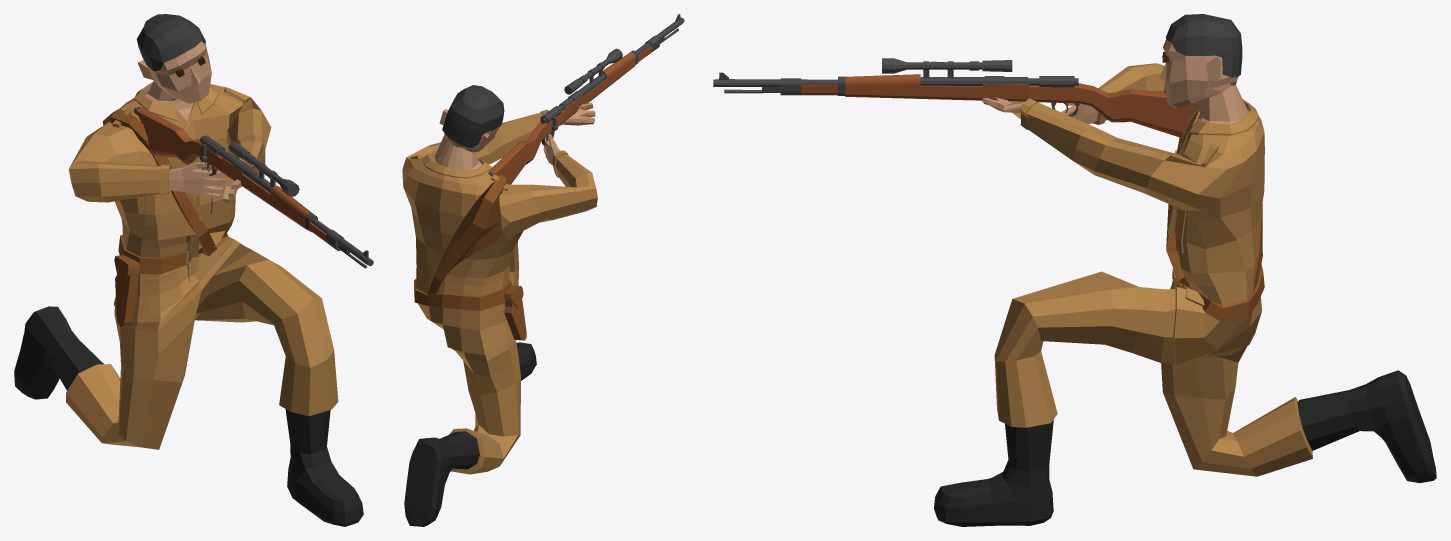
Rendered from PejuangSRf.fbx.
3 renders of one model, left to right at view 1: azimuth 30°, elevation 25°; view 2: azimuth 150°, elevation 25°; view 3: azimuth 270°, elevation 25°, orthographic. The views are drawn at different scales.
Parts seen in each view (by area): view 1: Sniper; view 2: Sniper; view 3: Sniper.
Boxes of the visible parts, x1,y1,x2,y2 form: Sniper: (14,14,373,526); Sniper: (402,14,684,526); Sniper: (713,14,1436,526).
Size of the model in its own units: 67.42 by 134 by 182.
